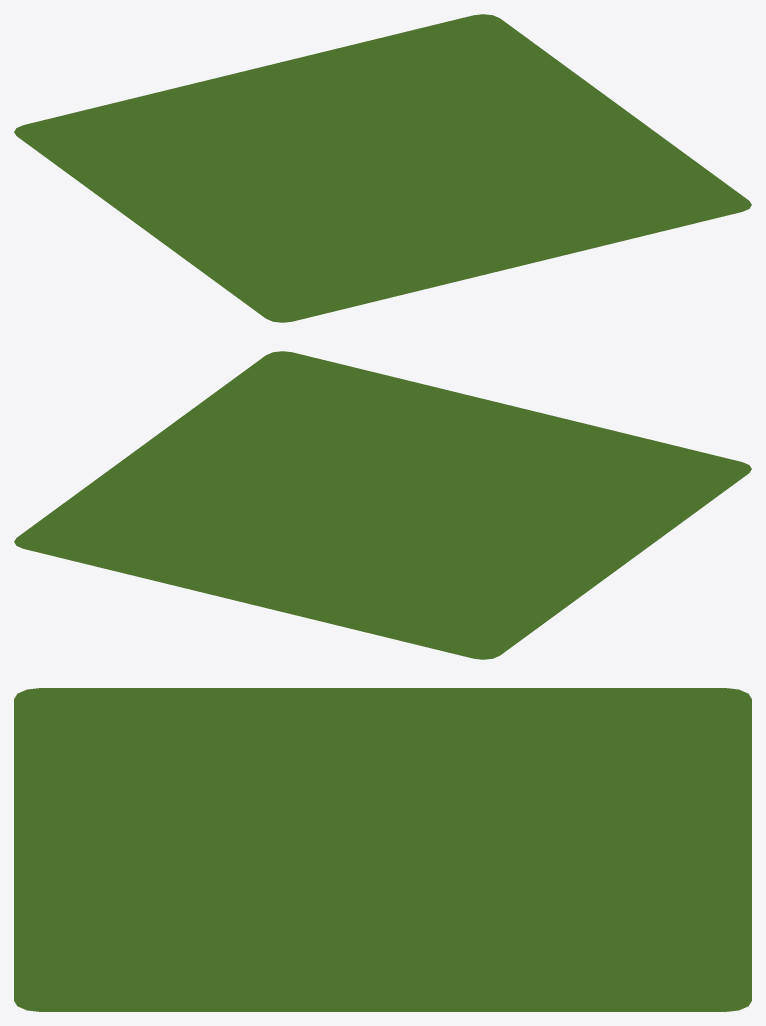
3 views of the same model, one above another, from view 1: azimuth 30°, elevation 25°; view 2: azimuth 150°, elevation 25°; view 3: azimuth 270°, elevation 25° (orthographic). The views are drawn at different scales.
Parts seen in each view (by area): view 1: Plane.004; view 2: Plane.004; view 3: Plane.004.
Boxes of the visible parts, x1,y1,x2,y2 form: Plane.004: [14, 14, 751, 322]; Plane.004: [14, 351, 751, 659]; Plane.004: [14, 688, 751, 1011].
Bounding box in the file's own units: 2623 × 0 × 2525.
